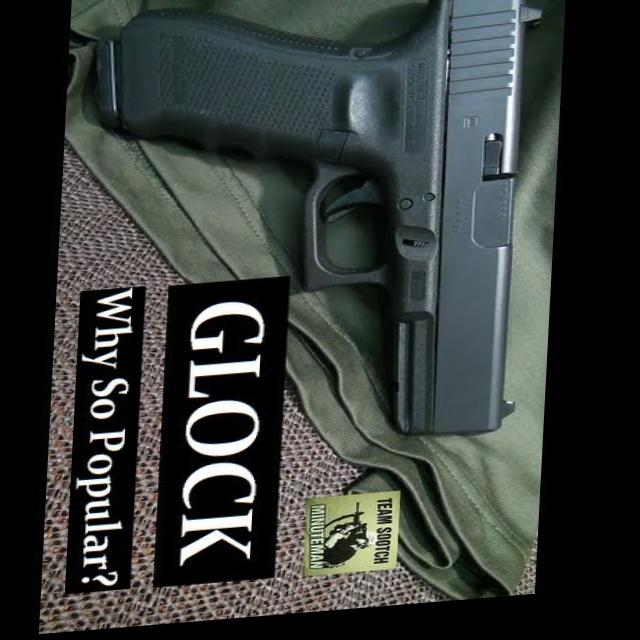handgun: (74, 0, 547, 485)
